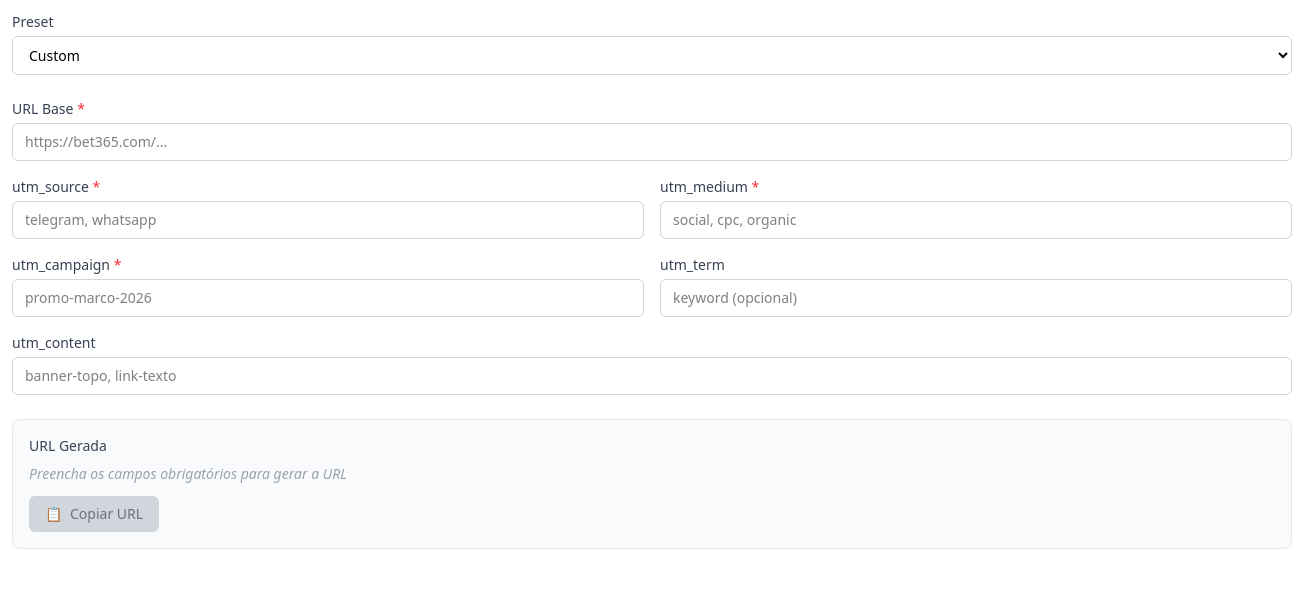
Scenario: UtmBuilder › includes optional params when provided
Type "https://example.com" into the field with placeholder "https://bet365.com/..." at (652, 142), box [12,123,1292,161]
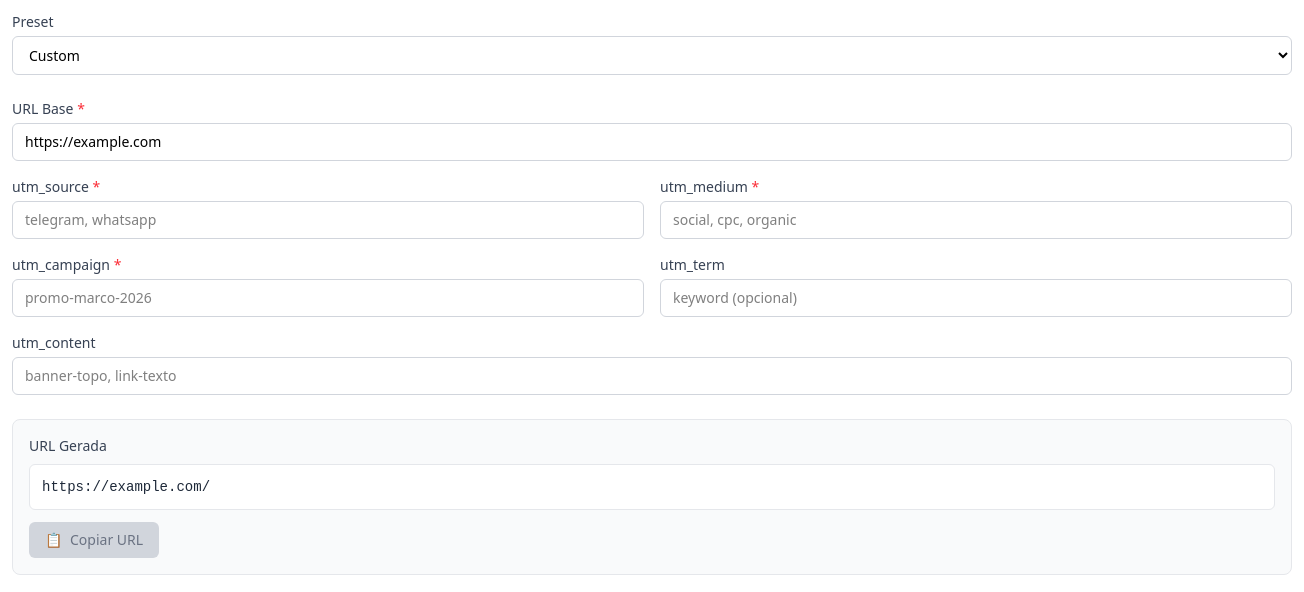
Type "src" into the field with placeholder "telegram, whatsapp" at (328, 220), box [12,201,644,239]
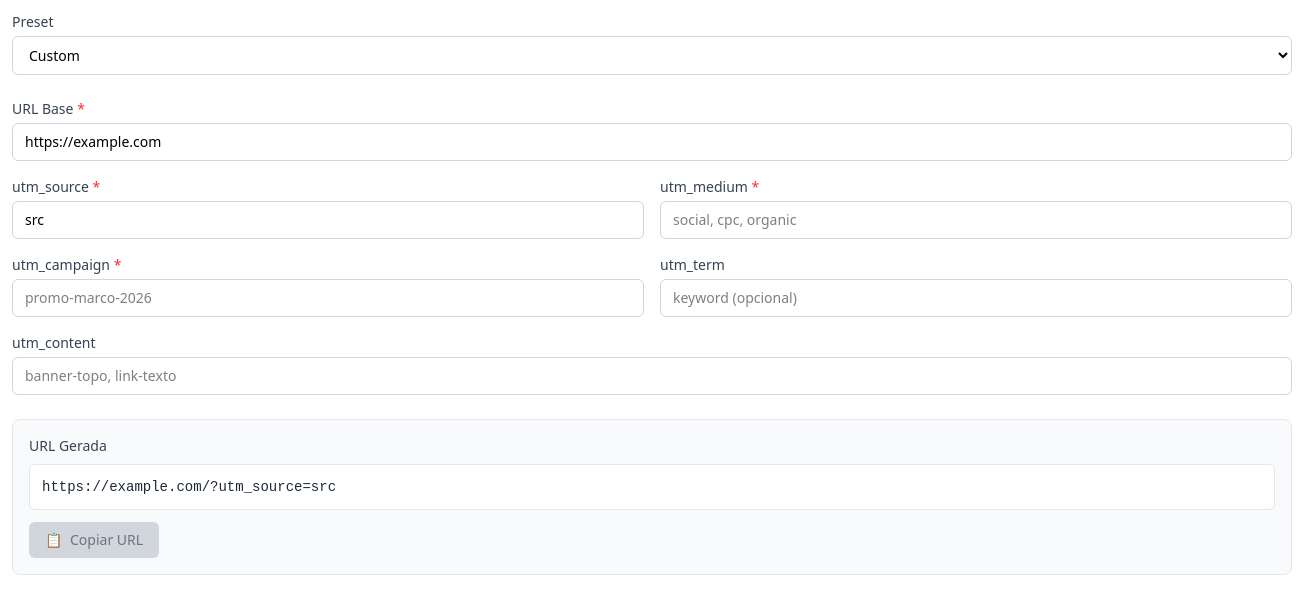
Type "med" into the field with placeholder "social, cpc, organic" at (976, 220), box [660,201,1292,239]
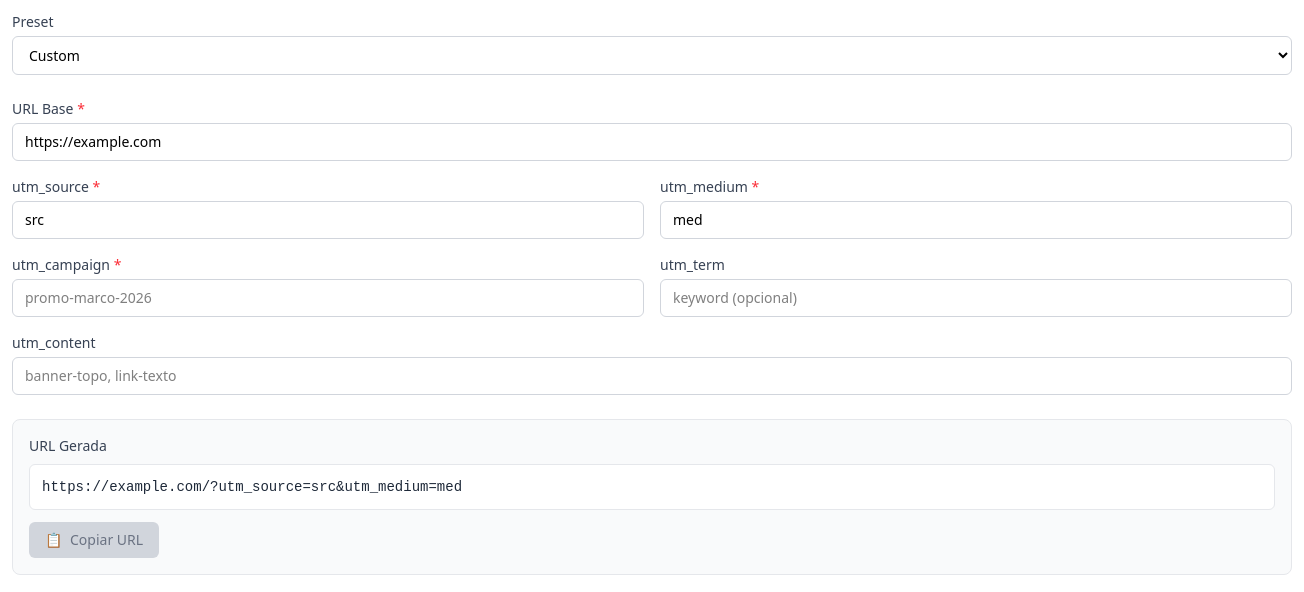
Type "camp" into the field with placeholder "promo-marco-2026" at (328, 298), box [12,279,644,317]
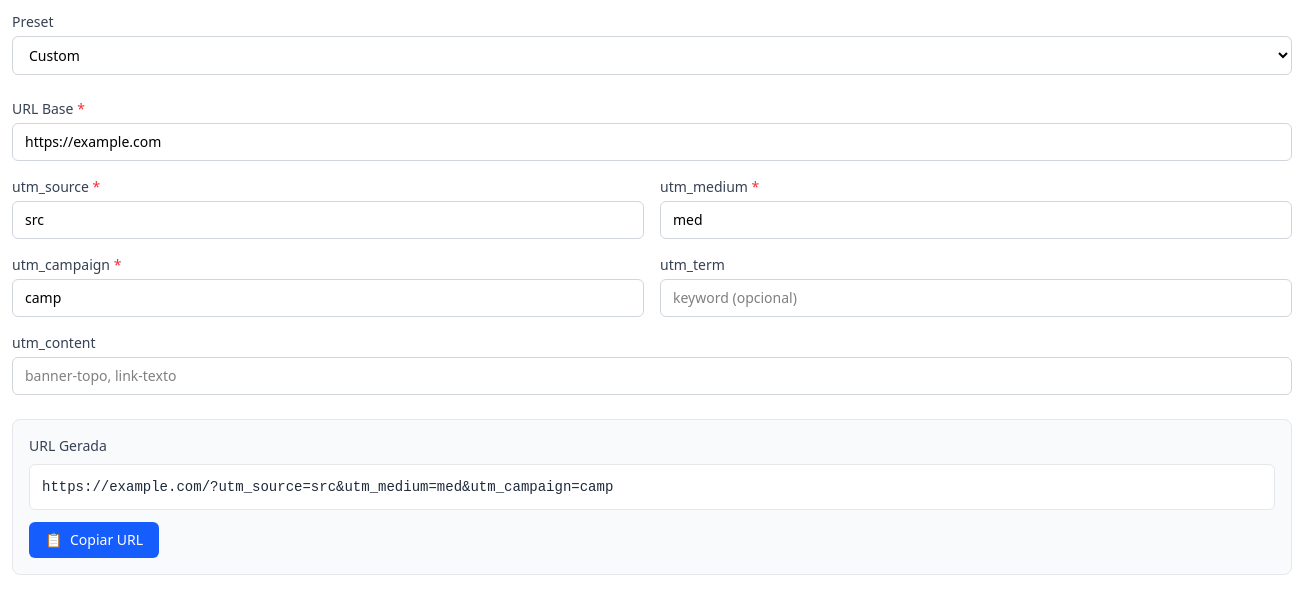
Type "my-term" into the field with placeholder "keyword (opcional)" at (976, 298), box [660,279,1292,317]
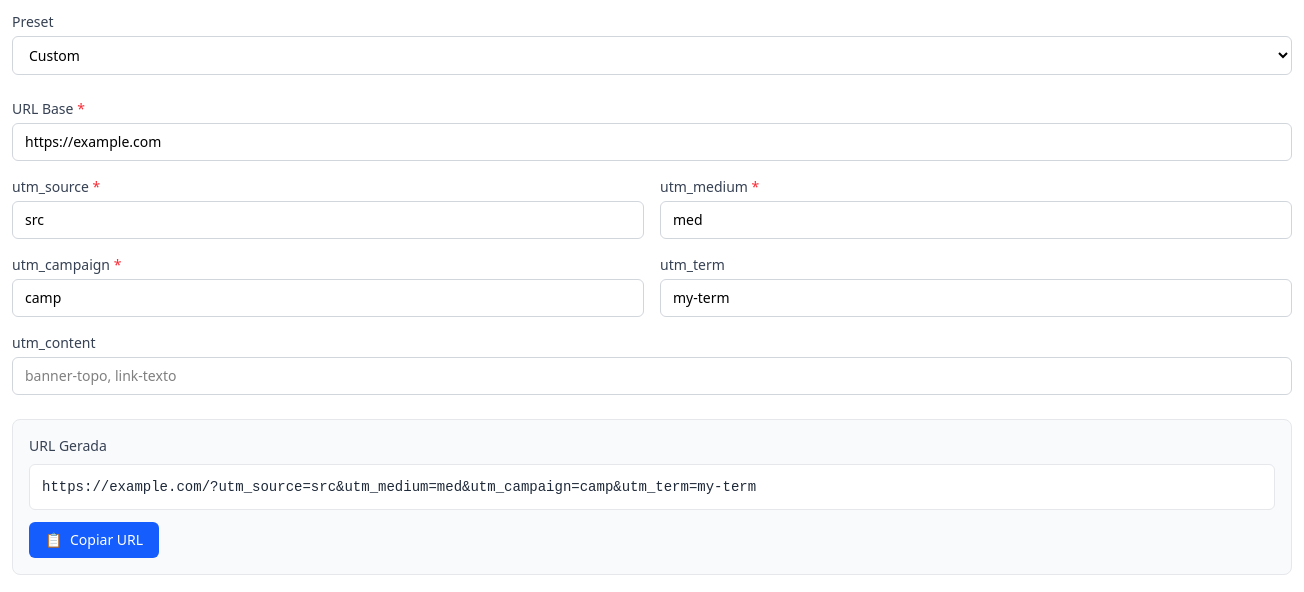
Type "my-content" into the field with placeholder "banner-topo, link-texto" at (652, 376), box [12,357,1292,395]
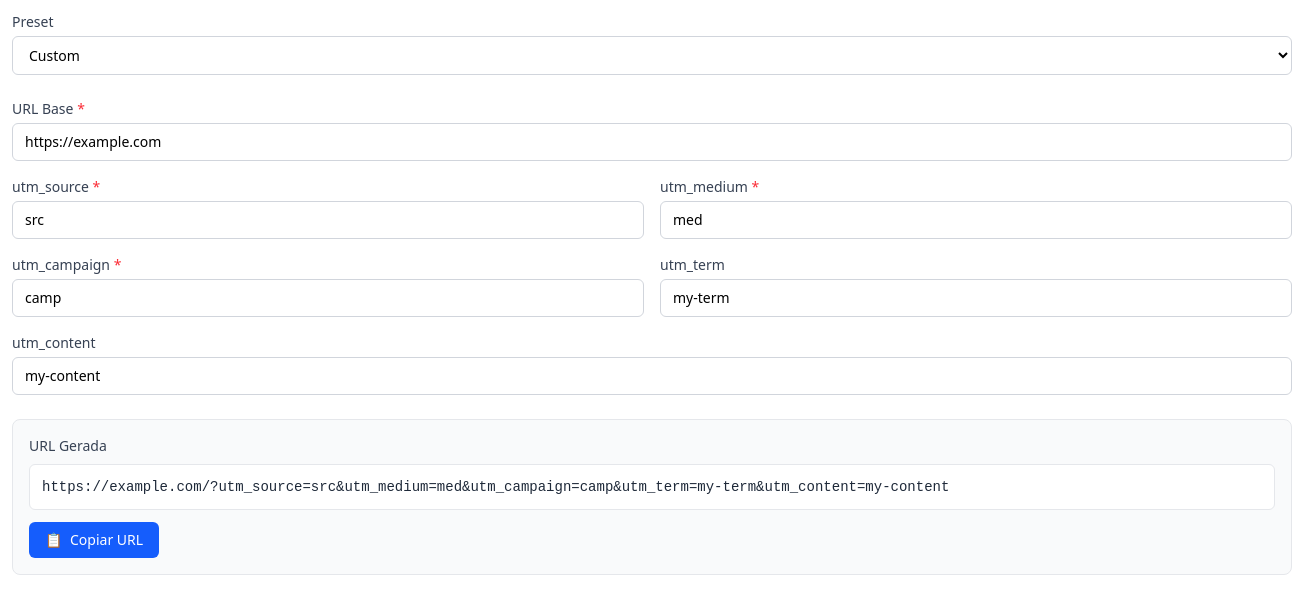
Check: the text "https://example.com/?utm_source=src&utm_medium=med&utm_campaign=camp&utm_term=my-term&utm_content=my-content" is shown, box [42,479,949,495]
